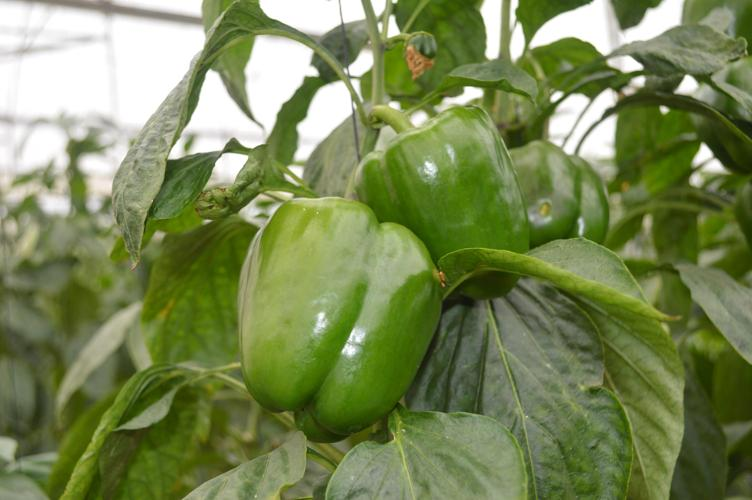BellPepper: (225, 194, 447, 432), (354, 121, 534, 291), (506, 129, 617, 257)
